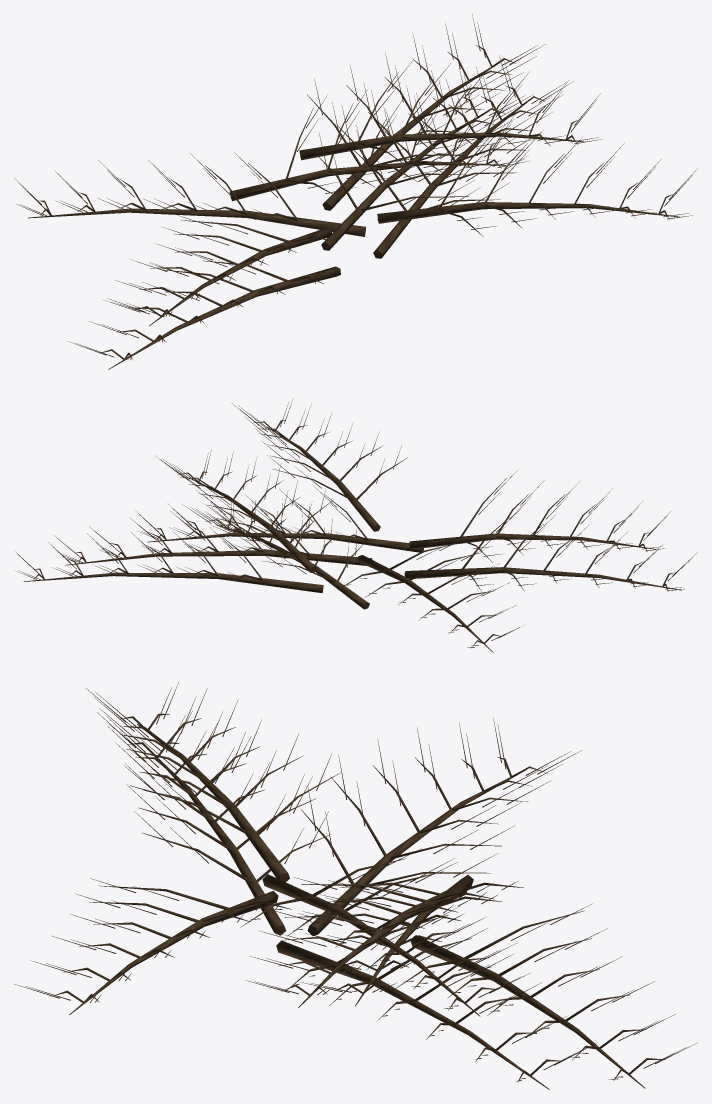
File: SS_Brash_Dry_01_LOD1.fbx
3 renders of one model, top to bottom at view 1: azimuth 30°, elevation 25°; view 2: azimuth 150°, elevation 25°; view 3: azimuth 270°, elevation 25°, orthographic. The views are drawn at different scales.
Parts seen in each view (by area): view 1: SS_Brash_Dry_01_LOD1_Structure; view 2: SS_Brash_Dry_01_LOD1_Structure; view 3: SS_Brash_Dry_01_LOD1_Structure.
Part boxes in pixels (left/top/right/bottom): SS_Brash_Dry_01_LOD1_Structure: left=14, top=14, right=697, bottom=369; SS_Brash_Dry_01_LOD1_Structure: left=15, top=398, right=697, bottom=652; SS_Brash_Dry_01_LOD1_Structure: left=14, top=682, right=697, bottom=1089.
Size of the model in its own units: 622 by 107 by 467.
